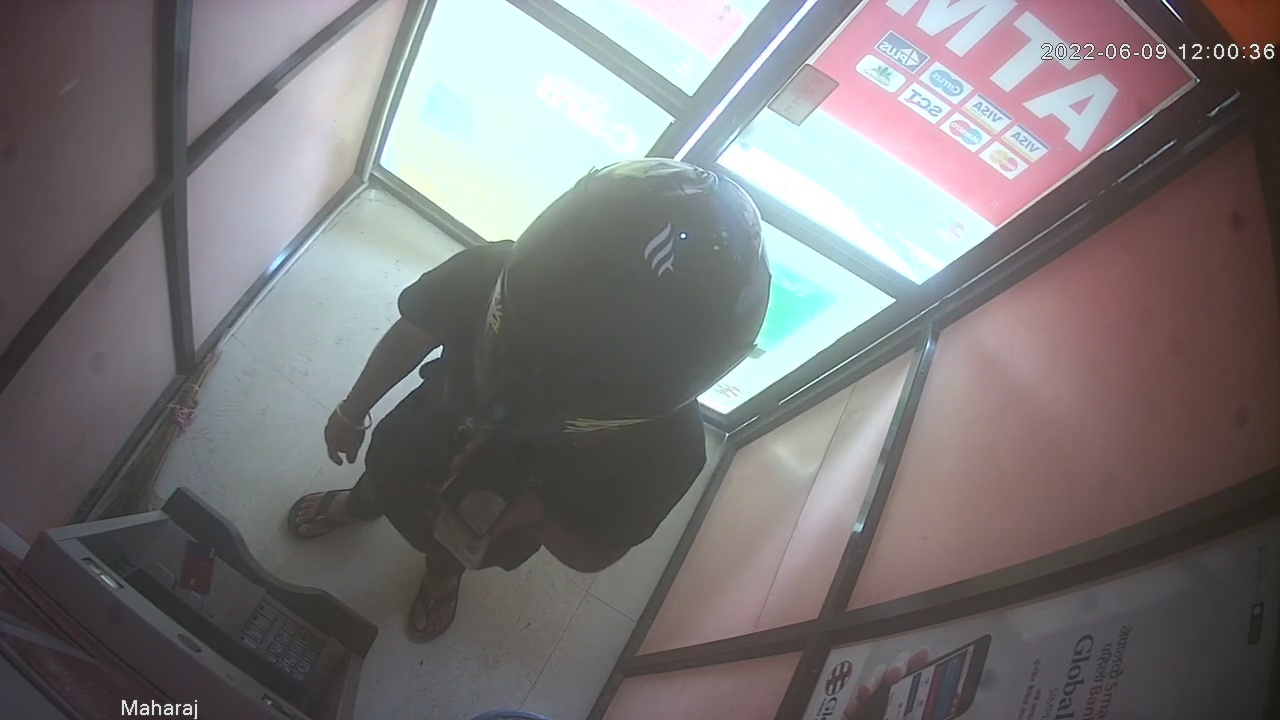helmet: (479, 157, 770, 437)
person: (289, 155, 771, 646)
